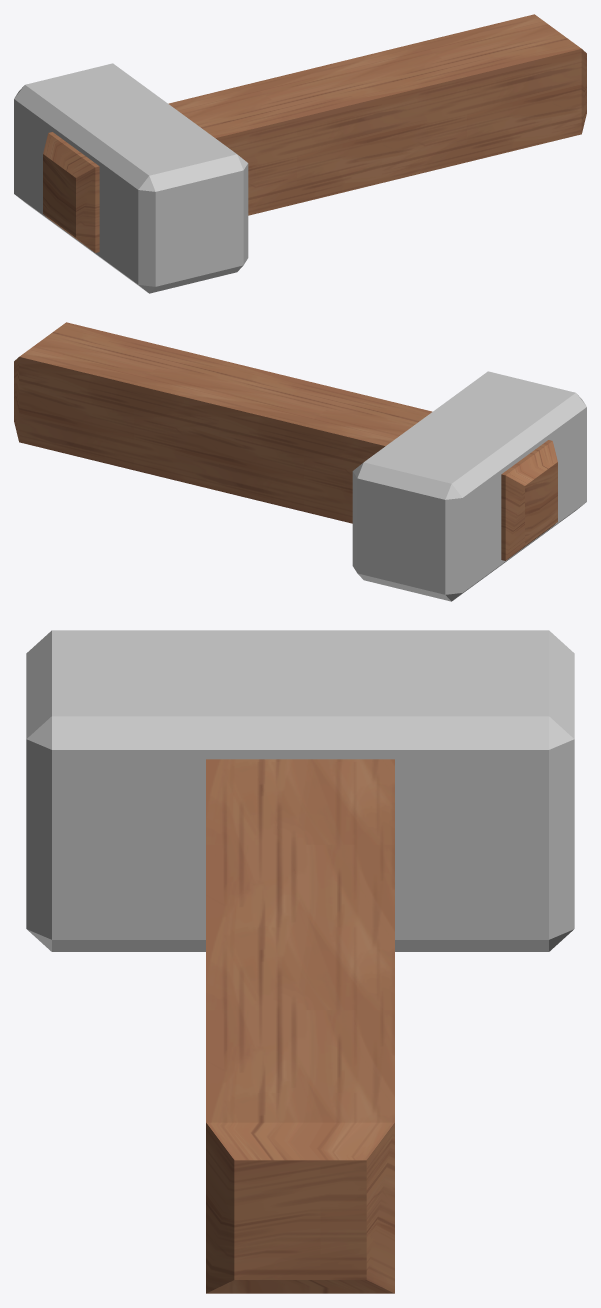
The model's file is Hammer.fbx.
The picture shows the model from 3 angles, top to bottom: view 1: azimuth 30°, elevation 25°; view 2: azimuth 150°, elevation 25°; view 3: azimuth 270°, elevation 25°; orthographic projection. The views are drawn at different scales.
Visible parts, largest first — view 1: _Hammer; view 2: _Hammer; view 3: _Hammer.
Part boxes in pixels (x1,y1,x2,y2): _Hammer: (14, 14, 586, 293); _Hammer: (14, 322, 586, 601); _Hammer: (26, 630, 574, 1293).
Size of the model in its own units: 25 by 5.52 by 11.61.
